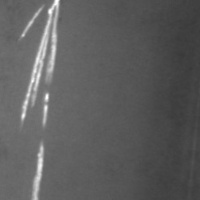scratches: (9, 0, 65, 126), (25, 141, 49, 194)
